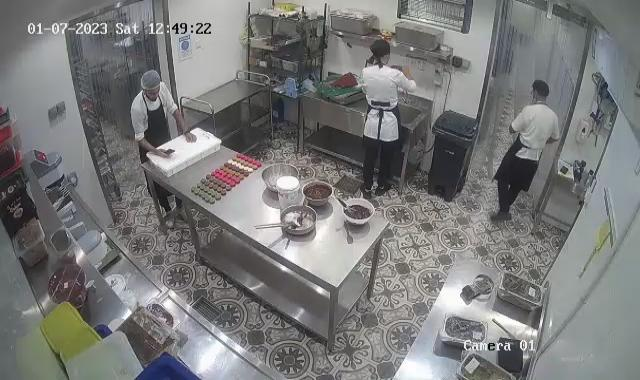hairnet: (141, 68, 163, 94)
no_hairnet: (369, 41, 392, 65), (532, 81, 549, 104)
